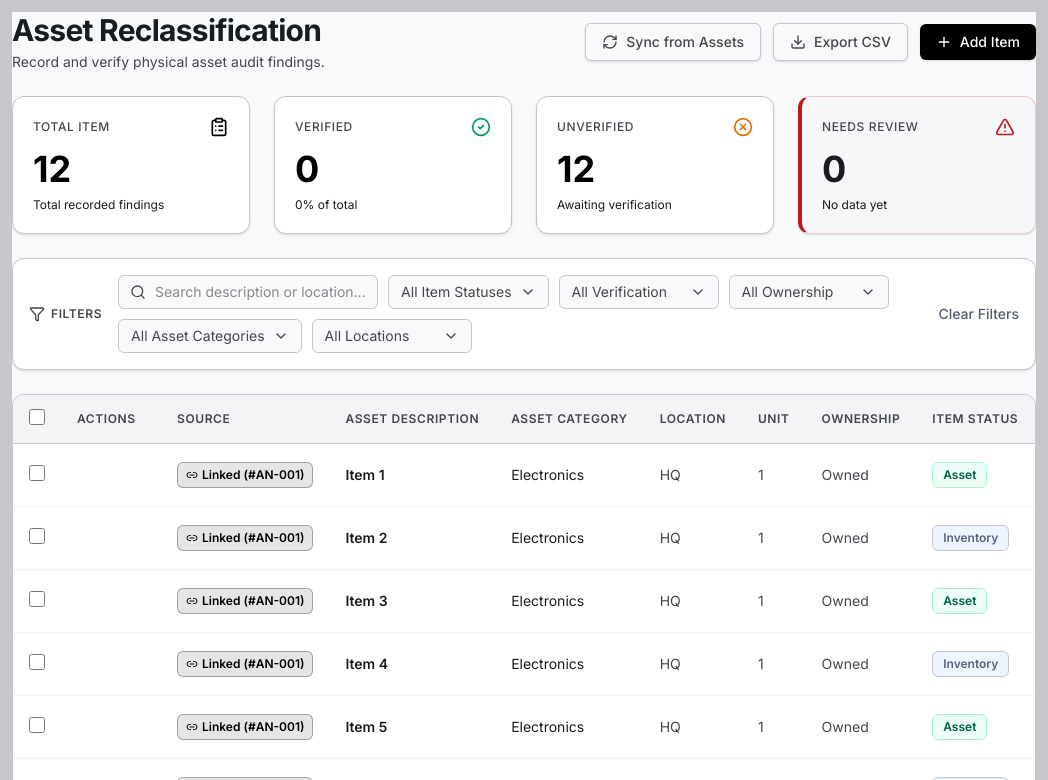
Test: Reclassification — row selection › toggles a single row on and off, and hides the bulk button at zero
Expected: the button "Delete Selected" is not shown
Click the 2nd checkbox.
click(37, 472)  # box left=29, top=464, right=45, bottom=480
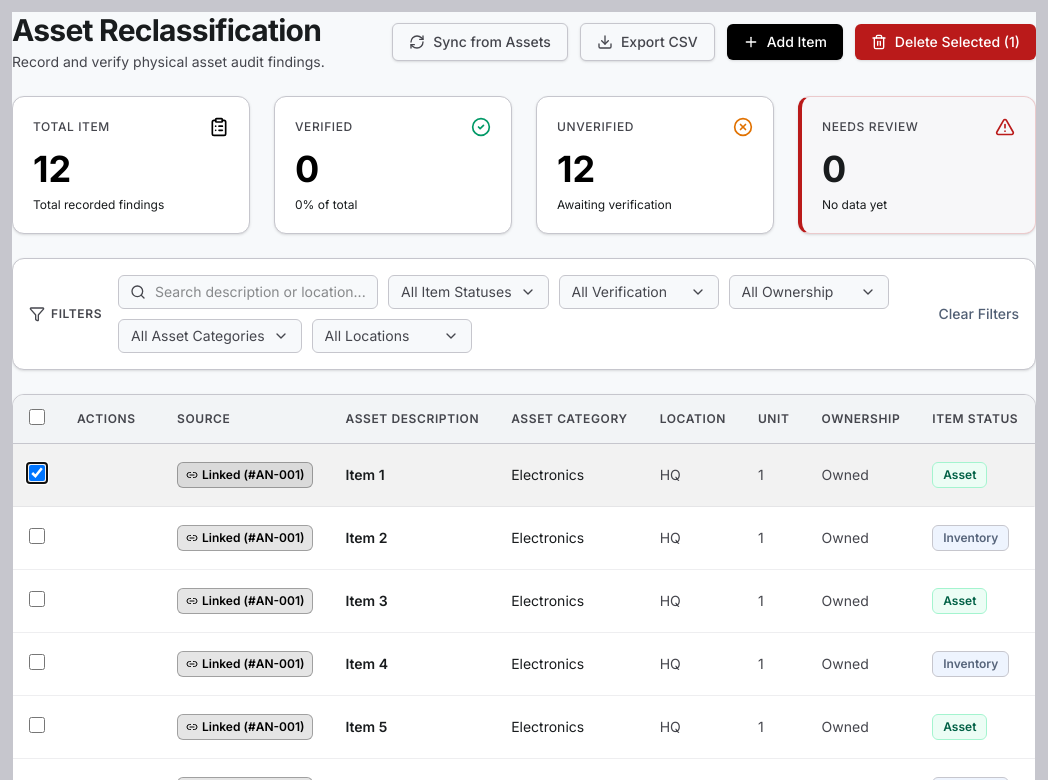
Expected: the button "Delete Selected (1)" is shown, left=855, top=24, right=1036, bottom=60
Click the checkbox in the row of "Item 2".
click(37, 536)  # box left=29, top=528, right=45, bottom=544
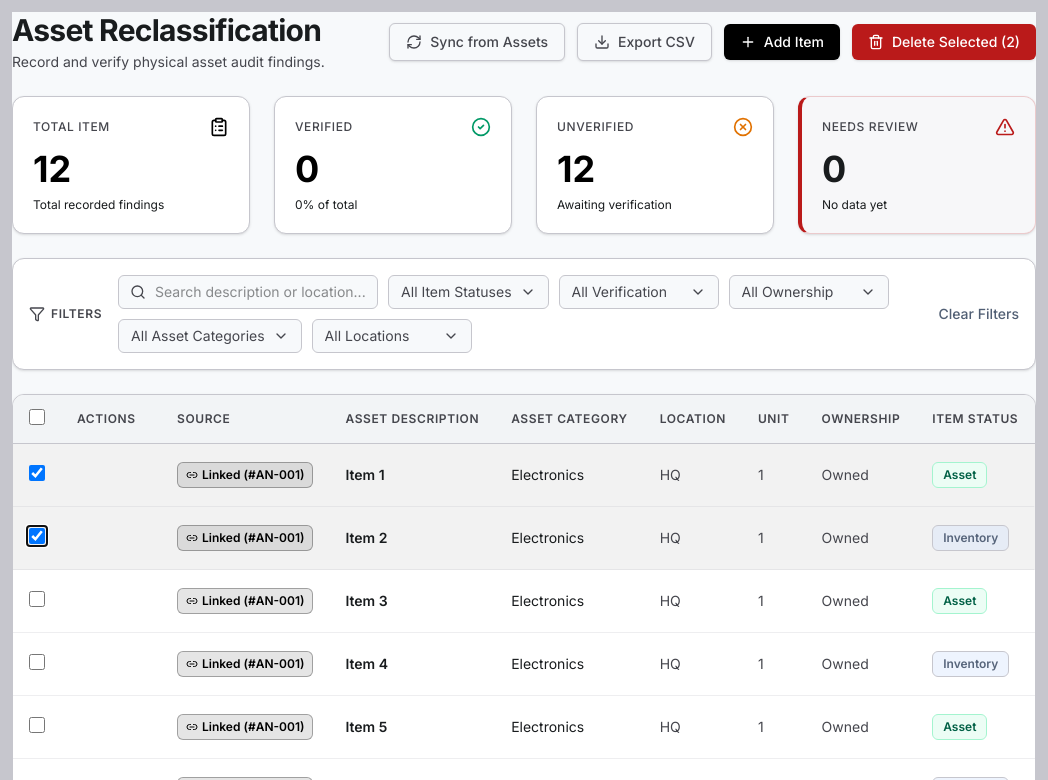
Expected: the button "Delete Selected (2)" is shown, left=852, top=24, right=1036, bottom=60
Click the 2nd checkbox.
click(37, 472)  # box left=29, top=464, right=45, bottom=480
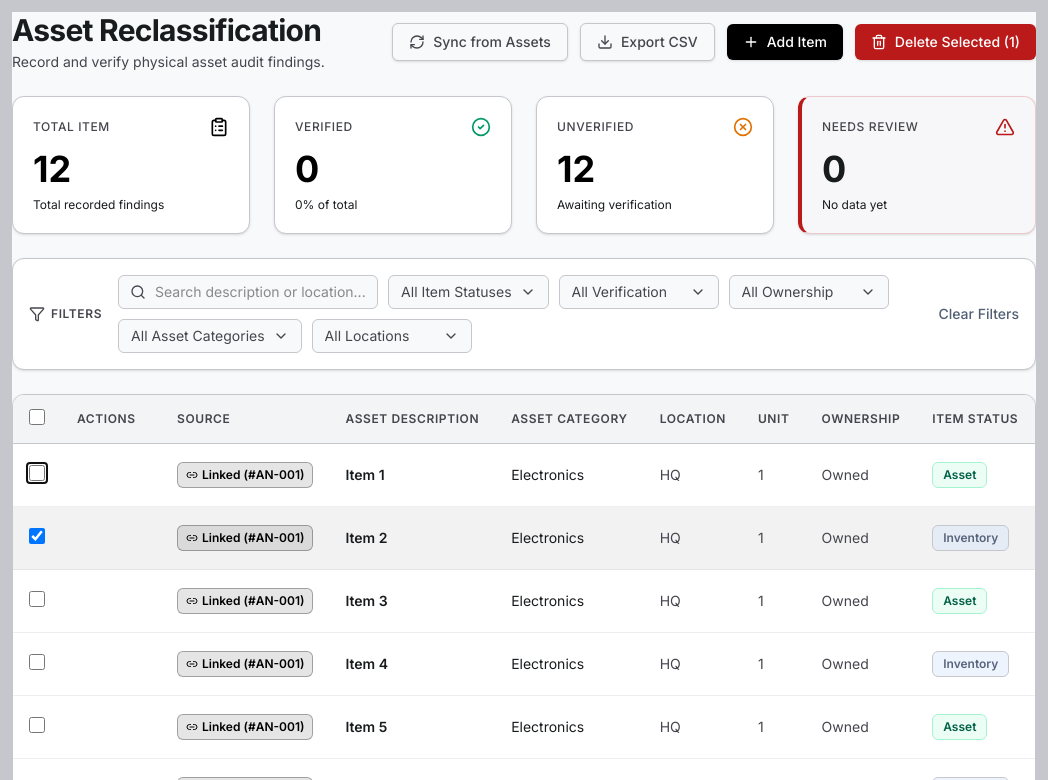
Click the checkbox in the row of "Item 2".
click(37, 536)  # box left=29, top=528, right=45, bottom=544
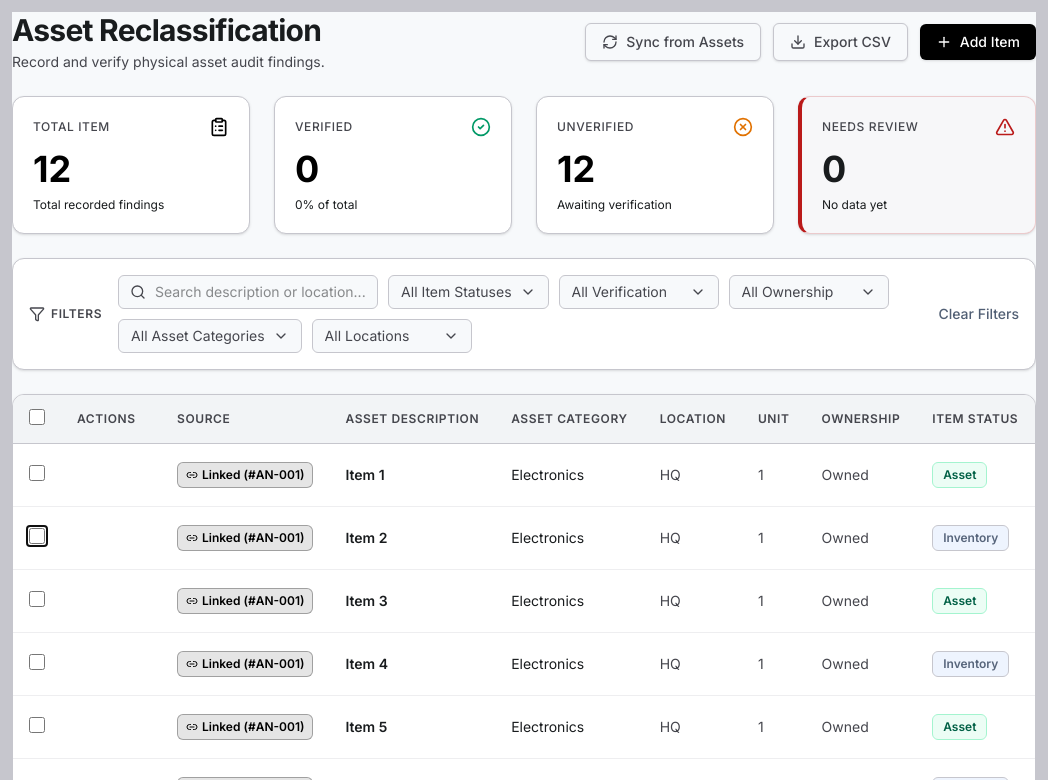
Expected: the button "Delete Selected" is gone
